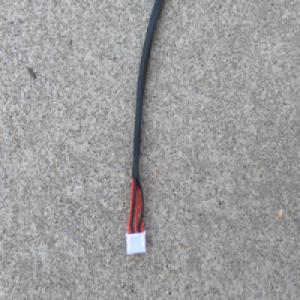Wire: (123, 0, 168, 258)
